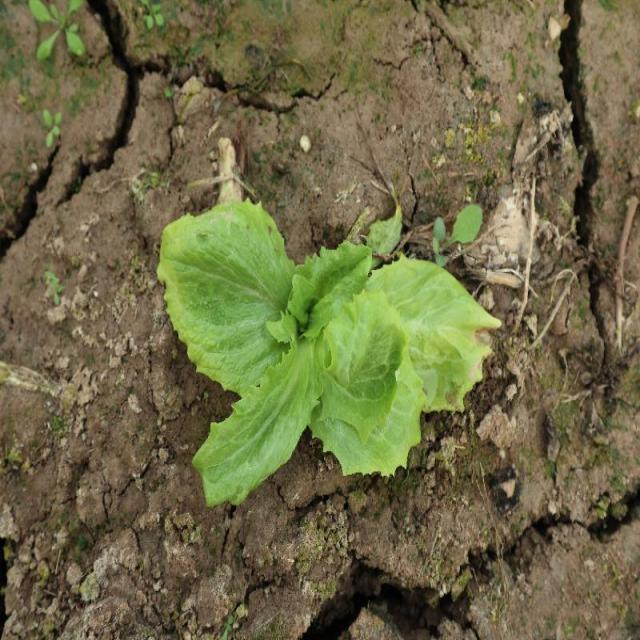crop: (155, 198, 503, 509)
